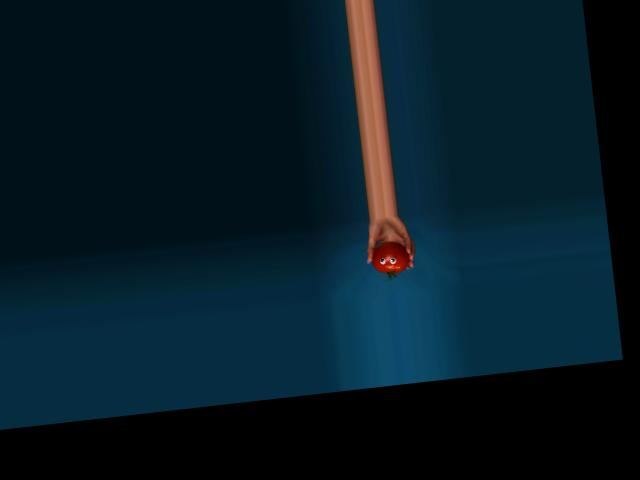tomato: (369, 239, 411, 275)
